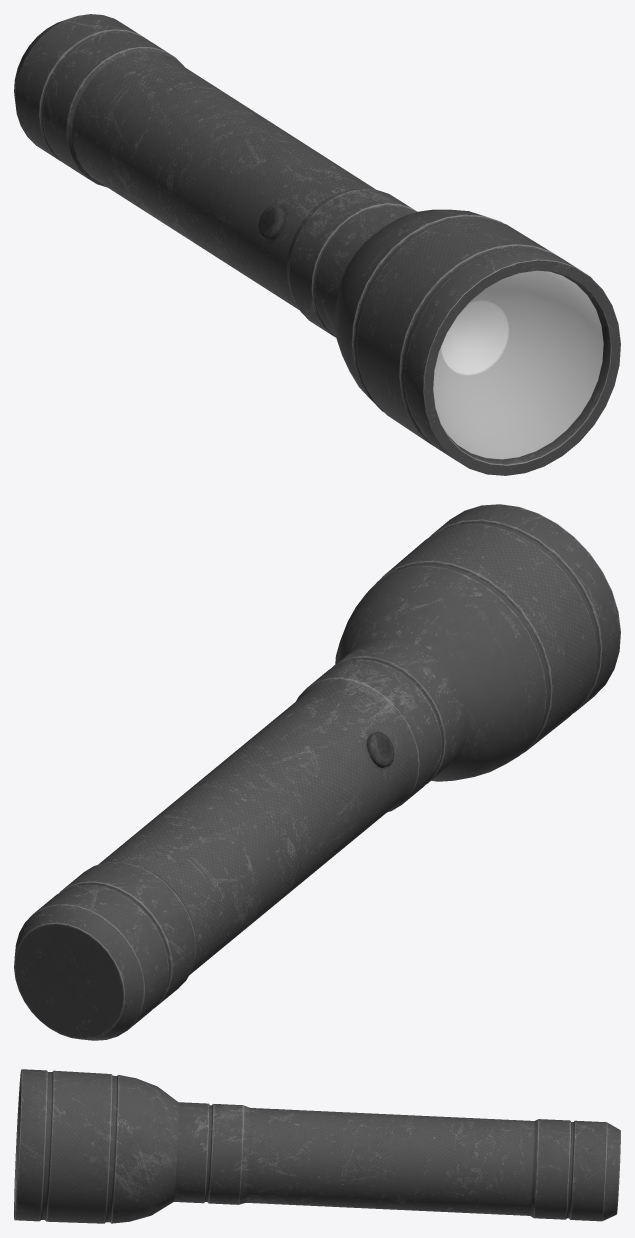
Rendered from flashlight.glb.
3 views of the same model, one above another, from view 1: azimuth 30°, elevation 25°; view 2: azimuth 150°, elevation 25°; view 3: azimuth 270°, elevation 25° (orthographic). The views are drawn at different scales.
Visible parts, largest first — view 1: Flashlight; view 2: Flashlight; view 3: Flashlight.
Part boxes in pixels (x1,y1,x2,y2): Flashlight: (14, 14, 620, 475); Flashlight: (14, 504, 620, 1040); Flashlight: (14, 1069, 620, 1223).
Bounding box in the file's own units: 0.1047 × 0.1073 × 0.42.
2 materials, 2 textured.
